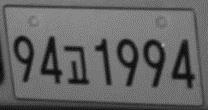1: (93, 37, 112, 86)
4: (170, 38, 196, 88), (39, 34, 63, 85)
9: (115, 37, 139, 87), (12, 34, 35, 83), (143, 38, 165, 88)
고: (63, 45, 90, 85)
